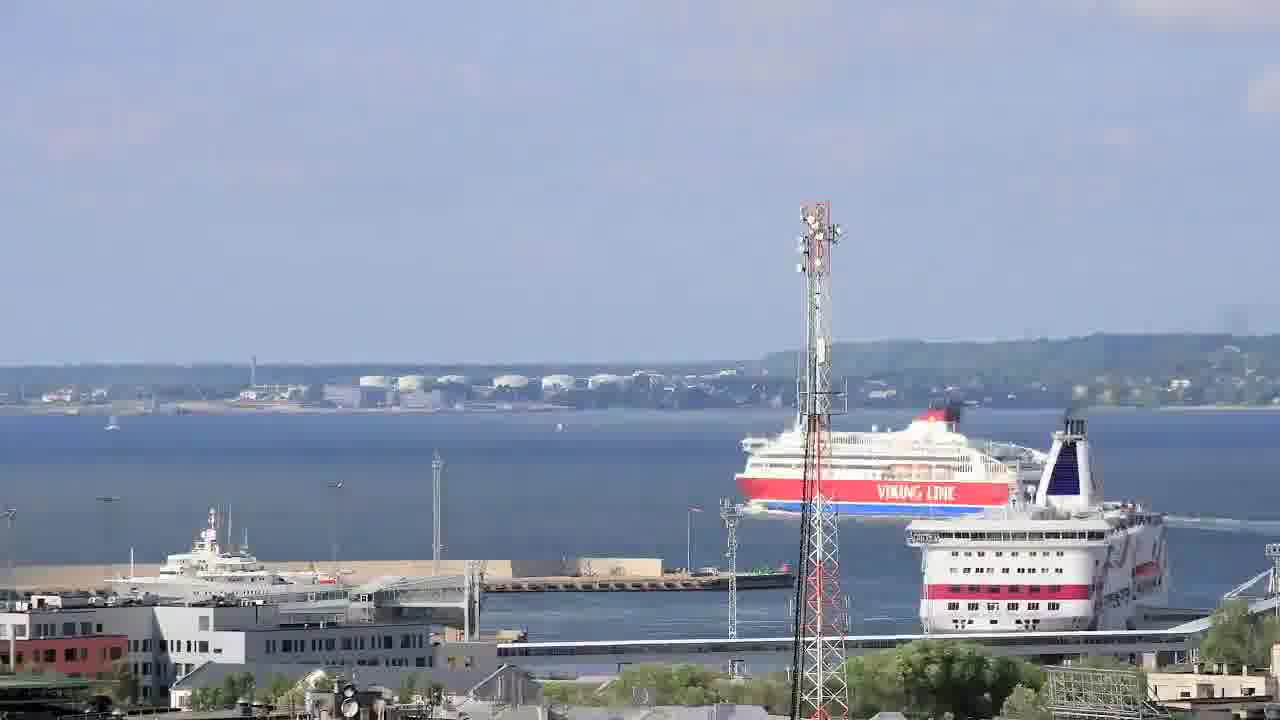type-2: (90, 394, 133, 450)
type-3: (889, 419, 1189, 638), (732, 399, 1072, 511), (89, 518, 402, 620)
